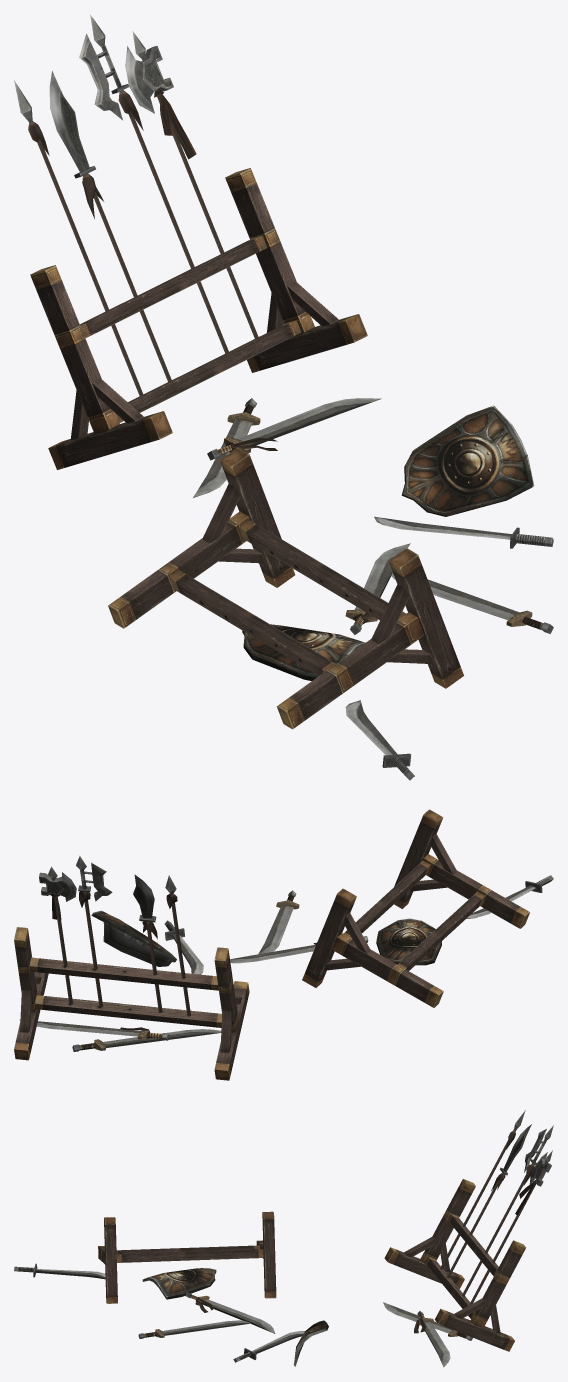
File: 4005_Item_wupi_1.FBX
The picture shows the model from 3 angles, top to bottom: view 1: azimuth 30°, elevation 25°; view 2: azimuth 150°, elevation 25°; view 3: azimuth 270°, elevation 25°; orthographic projection. The views are drawn at different scales.
Parts seen in each view (by area): view 1: 4005_Item_wupi_1; view 2: 4005_Item_wupi_1; view 3: 4005_Item_wupi_1.
Boxes of the visible parts, <box> form: 4005_Item_wupi_1: <box>14,15,553,780</box>; 4005_Item_wupi_1: <box>14,809,553,1080</box>; 4005_Item_wupi_1: <box>14,1110,553,1367</box>.
Size of the model in its own units: 379 by 288 by 722.
